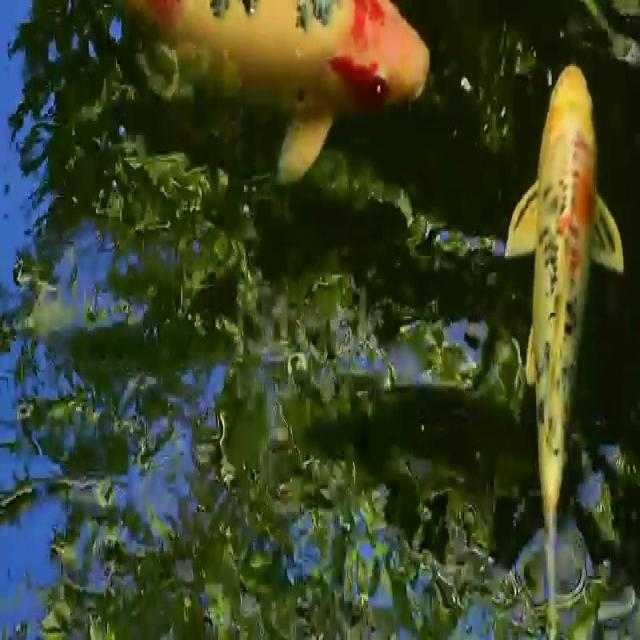fish: (499, 44, 638, 640), (145, 0, 441, 194)
